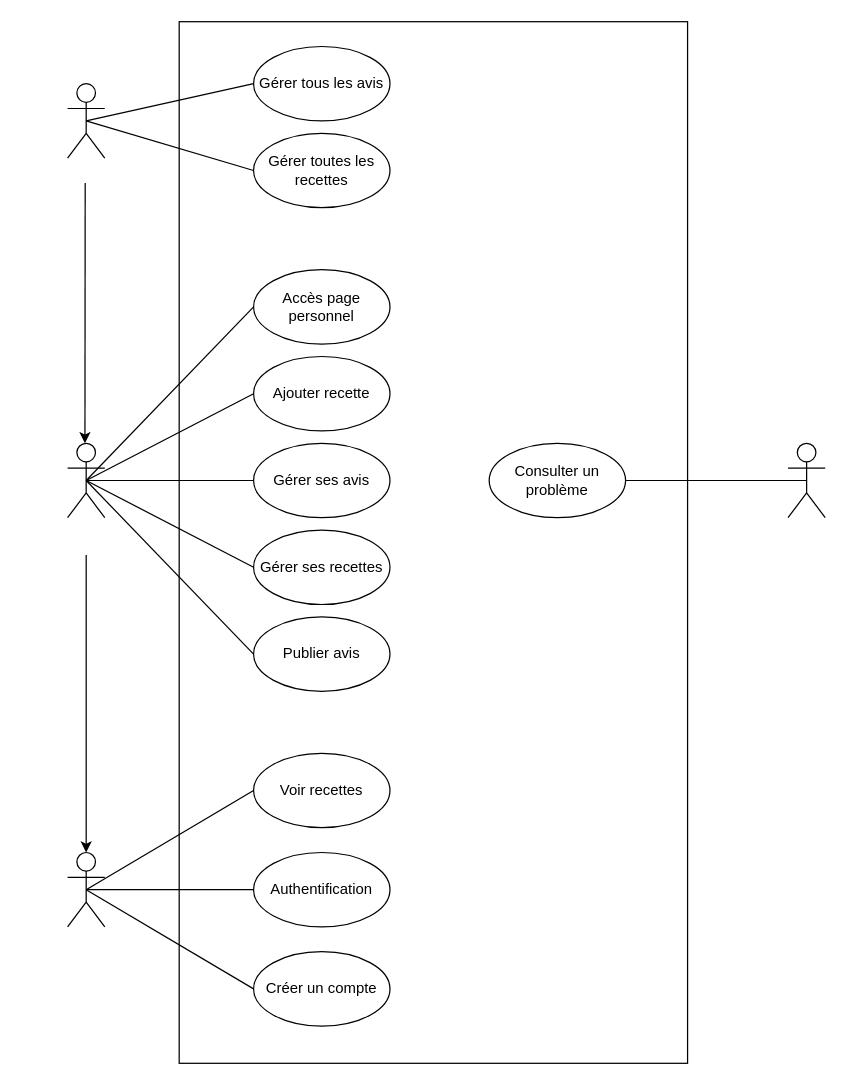
This 863x1085 diagram has some shape labels left out. The centre of each missing label's shape, as x and y in pixels:
Administrateur: the point at 85,120
Technicien: the point at 806,480
Utilisateur connecté: the point at 85,480
Visiteur: the point at 85,889
